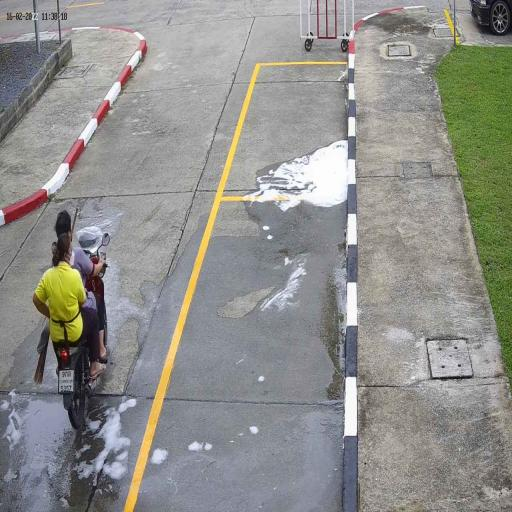motorcycle: (54, 246, 113, 433)
